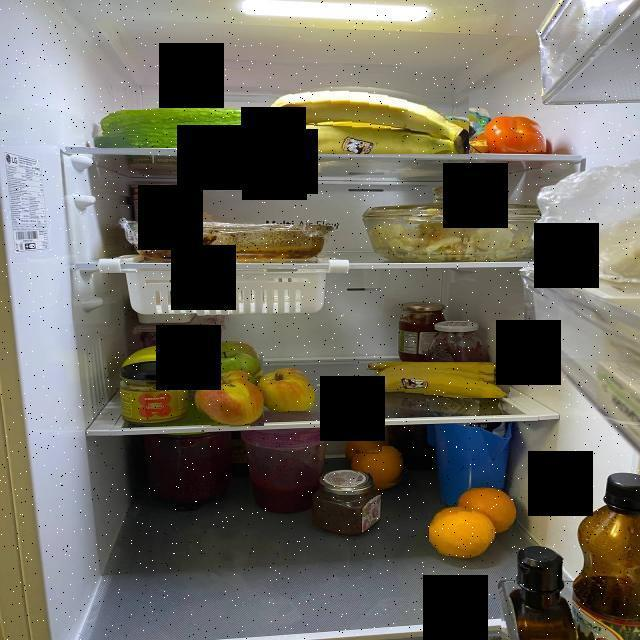apple: (196, 376, 264, 427), (260, 369, 318, 411), (196, 354, 264, 383), (198, 341, 260, 358)
banana: (262, 82, 469, 154), (358, 368, 511, 398), (366, 362, 511, 375)
cucumber: (86, 110, 282, 133), (79, 131, 282, 148)
orange: (429, 505, 495, 556), (458, 488, 518, 530), (353, 446, 408, 487), (342, 436, 382, 454)
tomato: (482, 119, 546, 152)
